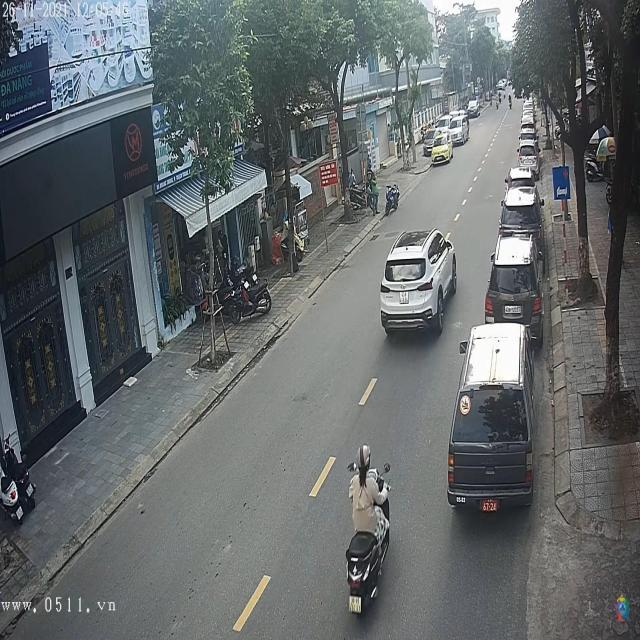car: (449, 324, 535, 513), (382, 228, 459, 337), (486, 234, 544, 337), (500, 187, 544, 237), (506, 166, 535, 190)
motorcycle: (344, 497, 394, 622)
